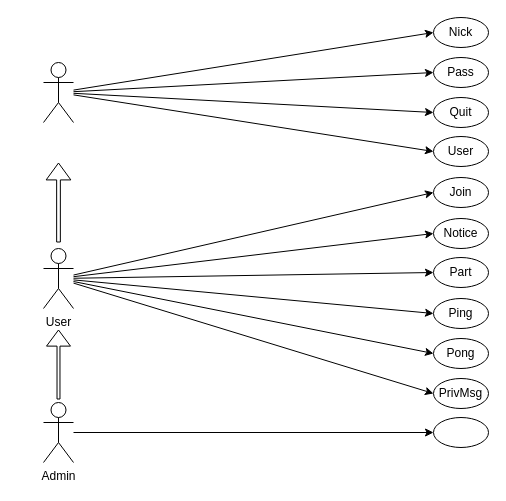
This 506x501 diagram has some shape labels left out. Each missing label, with the centre of its shape:
Kick: the point at 460,432
Non Registered User: the point at 58,92
